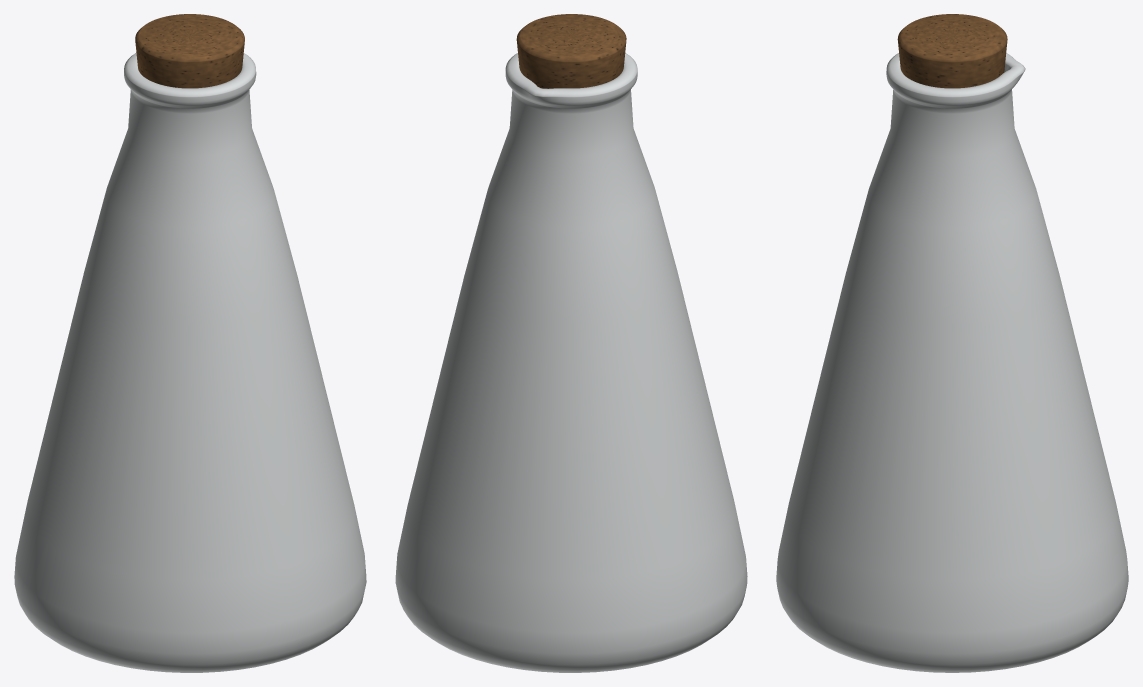
The model's file is bottle_erlenmeyer.glb.
The picture shows the model from 3 angles, left to right: view 1: azimuth 30°, elevation 25°; view 2: azimuth 150°, elevation 25°; view 3: azimuth 270°, elevation 25°; orthographic projection.
Parts seen in each view (by area): view 1: Glass, Cap; view 2: Glass, Cap; view 3: Glass, Cap.
Boxes of the visible parts, box(x1,y1,x2,y2) form: Glass: box(14, 53, 366, 672); Cap: box(135, 14, 244, 88); Glass: box(395, 53, 747, 672); Cap: box(516, 14, 626, 88); Glass: box(776, 53, 1128, 672); Cap: box(897, 14, 1007, 88).
Bounding box in the file's own units: 0.1051 × 0.1884 × 0.1053.
Materials: 3 (1 with a texture image).
